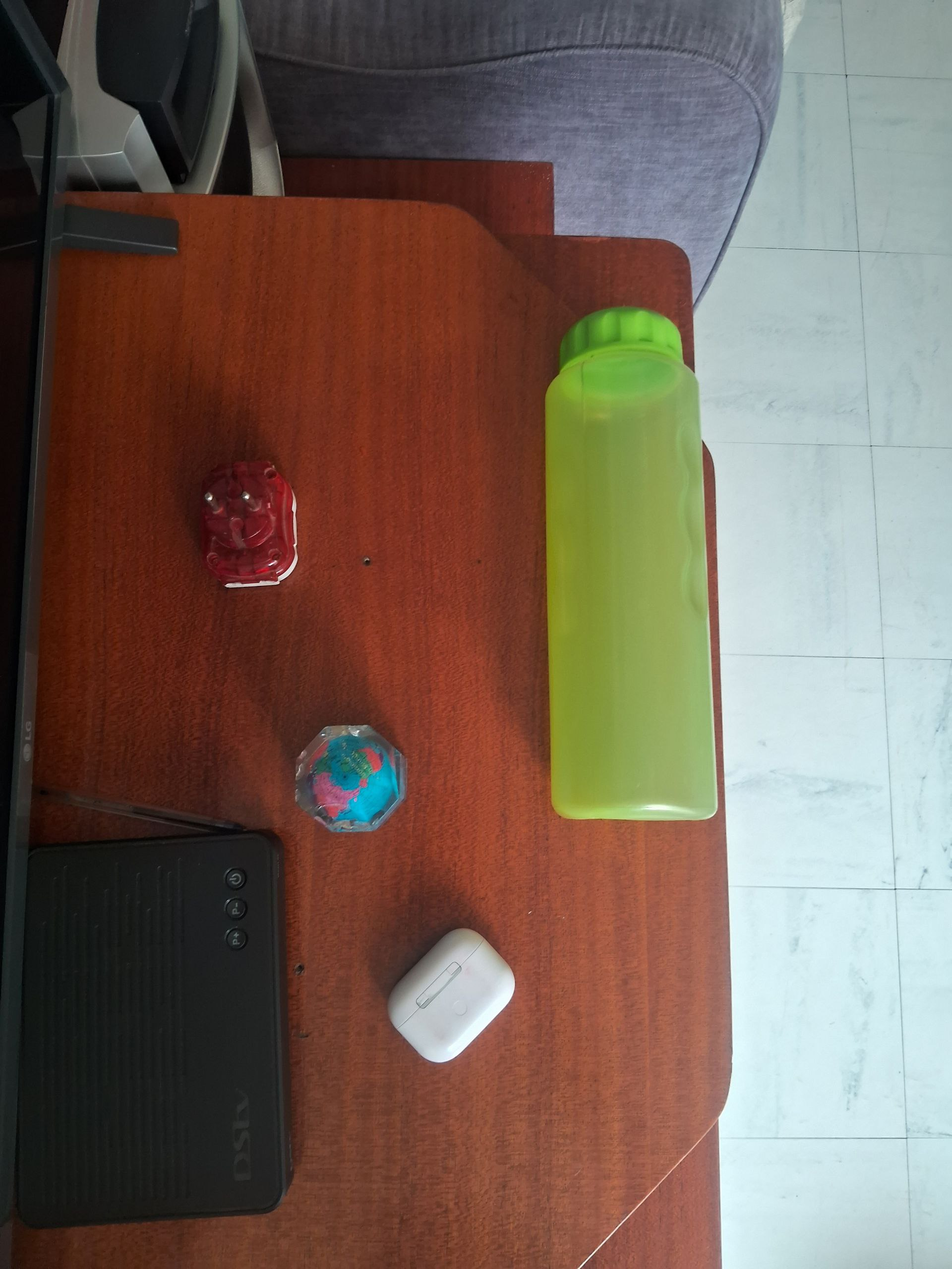Air_pod: (385, 924, 519, 1064)
Multi_adapter: (196, 458, 301, 592)
Water_bottle: (540, 303, 721, 826)
world_globe: (292, 722, 410, 837)
